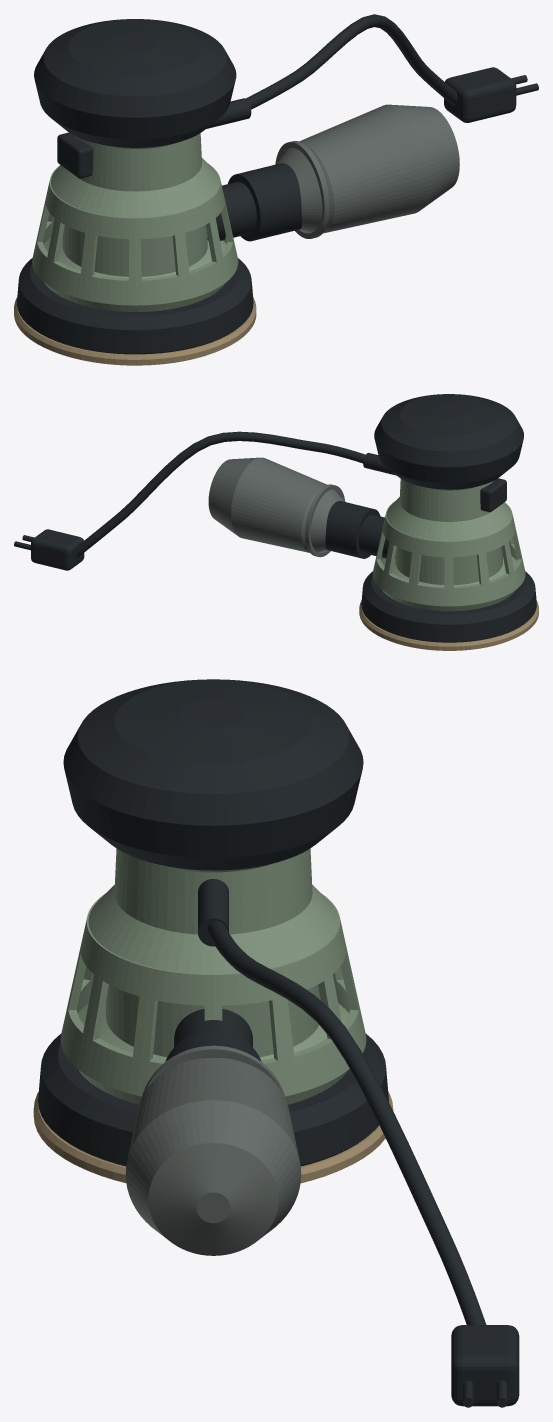
Rendered from full.glb.
3 views of the same model, one above another, from view 1: azimuth 30°, elevation 25°; view 2: azimuth 150°, elevation 25°; view 3: azimuth 270°, elevation 25° (orthographic). The views are drawn at different scales.
Visible parts, largest first — view 1: Broad rounded padded palm cap, Closed generic cloth collection bag, Motor core and narrow waist, Lower body with twelve open vents, Round pad and backing, Dustbag connector collar, Complete authored cable, Nominal127mm abrasive disk, Generic cable plug, Lower hollow dust port, Small supported side switch, Bag connector seam (+1 smaller); view 2: Broad rounded padded palm cap, Closed generic cloth collection bag, Motor core and narrow waist, Lower body with twelve open vents, Round pad and backing, Complete authored cable, Dustbag connector collar, Nominal127mm abrasive disk, Generic cable plug, Lower hollow dust port, Small supported side switch, Bag connector seam (+1 smaller); view 3: Broad rounded padded palm cap, Motor core and narrow waist, Closed generic cloth collection bag, Lower body with twelve open vents, Round pad and backing, Complete authored cable, Generic cable plug, Nominal127mm abrasive disk, High rear cord strain relief, Lower hollow dust port, Bag connector seam, Dustbag connector collar.
Boxes of the visible parts, left/top/right/bottom form: Broad rounded padded palm cap: left=34, top=19, right=236, bottom=147; Closed generic cloth collection bag: left=276, top=104, right=459, bottom=233; Motor core and narrow waist: left=43, top=133, right=226, bottom=311; Lower body with twelve open vents: left=32, top=163, right=238, bottom=305; Round pad and backing: left=17, top=258, right=253, bottom=354; Dustbag connector collar: left=228, top=163, right=301, bottom=241; Complete authored cable: left=245, top=14, right=457, bottom=109; Nominal127mm abrasive disk: left=14, top=297, right=256, bottom=365; Generic cable plug: left=444, top=67, right=516, bottom=122; Lower hollow dust port: left=207, top=181, right=256, bottom=240; Small supported side switch: left=57, top=132, right=93, bottom=178; Bag connector seam: left=275, top=141, right=329, bottom=238; Broad rounded padded palm cap: left=374, top=394, right=523, bottom=489; Closed generic cloth collection bag: left=208, top=457, right=344, bottom=552; Motor core and narrow waist: left=381, top=479, right=516, bottom=611; Lower body with twelve open vents: left=372, top=501, right=525, bottom=606; Round pad and backing: left=361, top=571, right=536, bottom=642; Complete authored cable: left=76, top=431, right=365, bottom=557; Dustbag connector collar: left=325, top=501, right=380, bottom=558; Nominal127mm abrasive disk: left=359, top=600, right=538, bottom=650; Generic cable plug: left=31, top=529, right=84, bottom=570; Lower hollow dust port: left=359, top=514, right=395, bottom=558; Small supported side switch: left=480, top=478, right=506, bottom=512; Bag connector seam: left=305, top=484, right=345, bottom=557; Broad rounded padded palm cap: left=63, top=679, right=363, bottom=870; Motor core and narrow waist: left=78, top=848, right=348, bottom=1104; Closed generic cloth collection bag: left=125, top=1057, right=301, bottom=1255; Lower body with twelve open vents: left=60, top=893, right=366, bottom=1096; Round pad and backing: left=38, top=1033, right=388, bottom=1166; Complete authored cable: left=207, top=921, right=486, bottom=1324; Generic cable plug: left=451, top=1325, right=519, bottom=1406; Nominal127mm abrasive disk: left=33, top=1092, right=393, bottom=1183; High rear cord strain relief: left=198, top=879, right=228, bottom=946; Lower hollow dust port: left=174, top=1009, right=252, bottom=1047; Bag connector seam: left=142, top=1045, right=284, bottom=1096; Dustbag connector collar: left=165, top=1030, right=261, bottom=1061.
Size of the model in its own units: 0.3585 by 0.158 by 0.1715.
